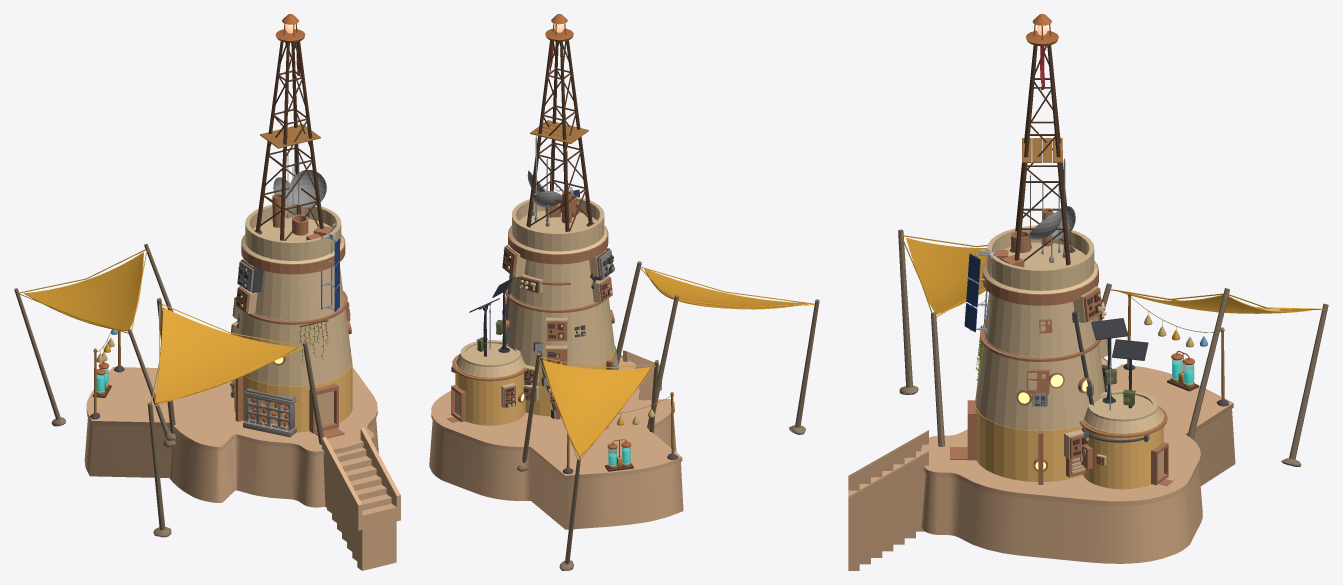
The model's file is nomad_building_b17.fbx.
3 views of the same model, side by side, from view 1: azimuth 30°, elevation 25°; view 2: azimuth 150°, elevation 25°; view 3: azimuth 270°, elevation 25° (orthographic). The views are drawn at different scales.
Parts seen in each view (by area): view 1: NomadBuilding_B17; view 2: NomadBuilding_B17; view 3: NomadBuilding_B17.
Boxes of the visible parts, <box> form: NomadBuilding_B17: <box>14,14,400,570</box>; NomadBuilding_B17: <box>429,14,819,570</box>; NomadBuilding_B17: <box>848,14,1328,570</box>.
Size of the model in its own units: 2880 by 4541 by 3619.
